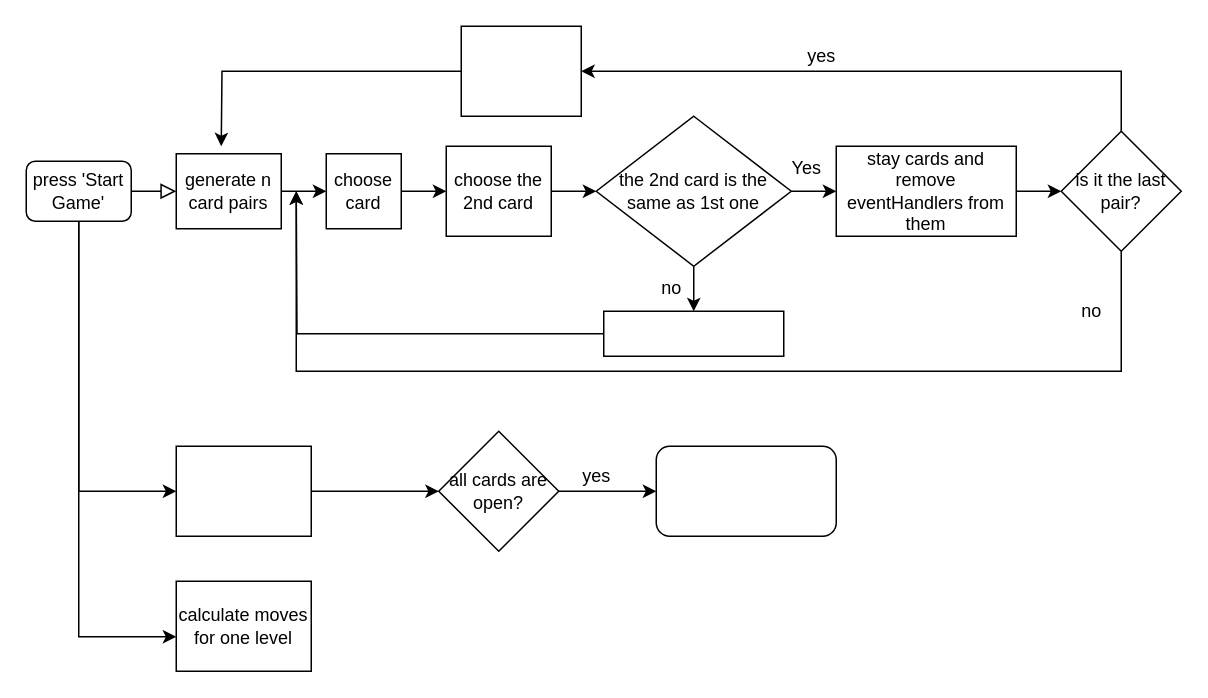
Some shapes in this 1208 by 698 pixel diagram are drawn without their labels. Here are the shapes that lost their labels. From the top down, the centre of each, then its label:
At point (520, 70): "n++, start new level".
At point (693, 333): "close cards".
At point (243, 490): "start timer".
At point (745, 490): "stop timer".
